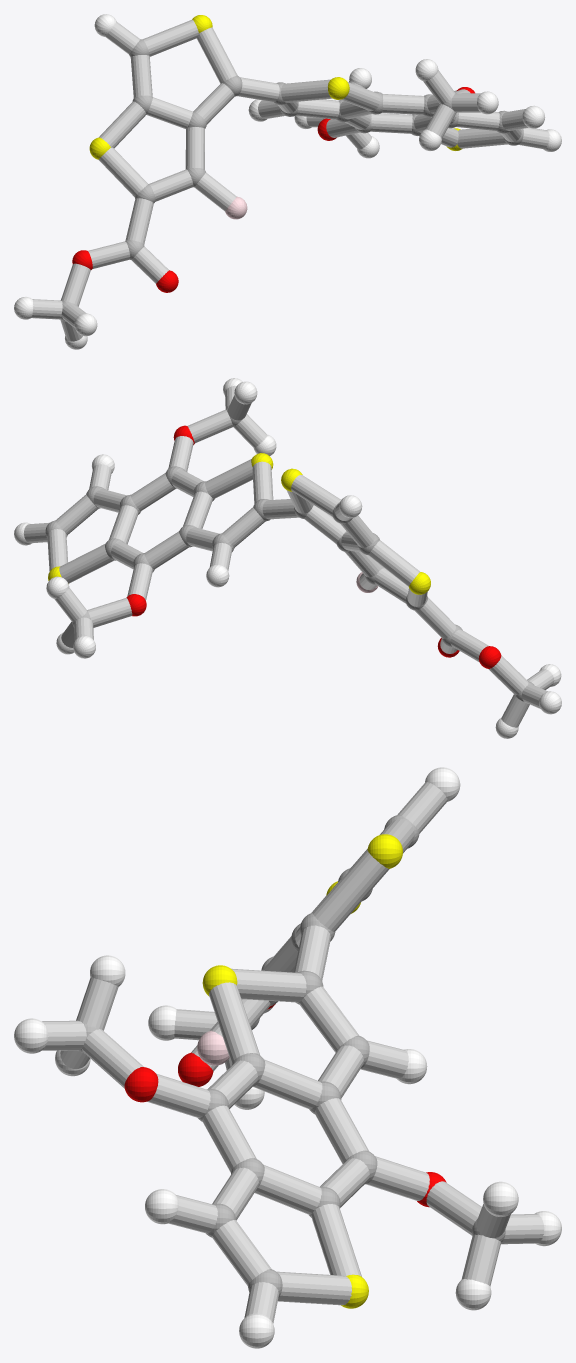
File: color.glb
The picture shows the model from 3 angles, top to bottom: view 1: azimuth 30°, elevation 25°; view 2: azimuth 150°, elevation 25°; view 3: azimuth 270°, elevation 25°; orthographic projection. The views are drawn at different scales.
Visible parts, largest first — view 1: grp15205, grp8689, grp1, grp7241, grp13395; view 2: grp15205, grp8689, grp1, grp13395, grp7241; view 3: grp15205, grp8689, grp1, grp7241, grp13395, grp14843.
Part boxes in pixels (box(x1,y1,x2,y2)): grp15205: box(32, 19, 549, 341); grp8689: box(14, 14, 561, 349); grp1: box(61, 39, 523, 321); grp7241: box(89, 15, 462, 159); grp13395: box(72, 87, 474, 292); grp15205: box(23, 385, 554, 727); grp8689: box(14, 378, 561, 738); grp1: box(45, 406, 534, 701); grp13395: box(126, 425, 501, 668); grp7241: box(48, 453, 430, 594); grp15205: box(42, 782, 544, 1323); grp8689: box(14, 767, 561, 1348); grp1: box(77, 815, 505, 1297); grp7241: box(202, 834, 402, 1308); grp13395: box(124, 1004, 446, 1207); grp14843: box(197, 1030, 229, 1065).
Size of the model in its own units: 16.38 by 7.61 by 9.23.
